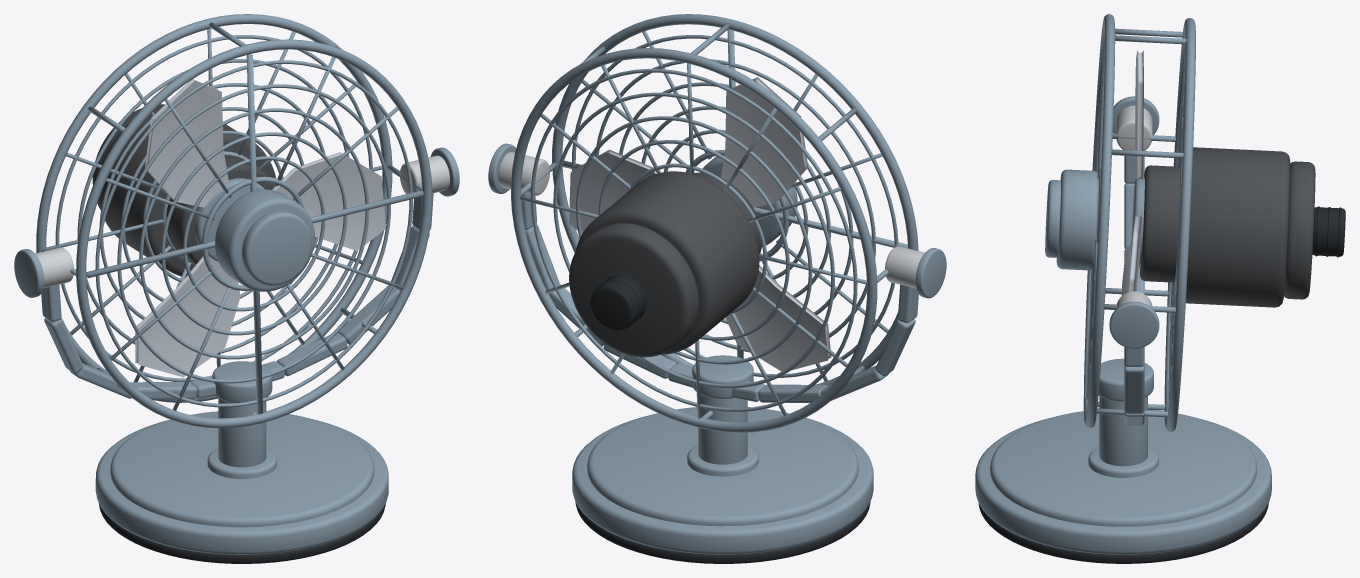
File: foundry_treasure_chest.glb
The picture shows the model from 3 angles, left to right: view 1: azimuth 30°, elevation 25°; view 2: azimuth 150°, elevation 25°; view 3: azimuth 270°, elevation 25°; orthographic projection. The views are drawn at different scales.
Parts seen in each view (by area): view 1: front_cage, fan_base_upper, rear_cage, fan_base_lower, support_yoke, blade_03, blade_02, blade_01, motor_housing, central_hub_cap, central_hub, front_cage_cross_support (+11 smaller); view 2: rear_cage, fan_base_upper, front_cage, motor_housing, motor_rear_cap, fan_base_lower, support_yoke, blade_03, blade_02, blade_01, base_rubber_pad, support_column (+11 smaller); view 3: fan_base_upper, motor_housing, fan_base_lower, rear_cage, front_cage, motor_front_neck, central_hub, motor_rear_cap, base_rubber_pad, support_yoke, support_column, cage_depth_connectors (+11 smaller).
Boxes of the visible parts, x1,y1,x2,y2 form: front_cage: [76, 39, 432, 428]; fan_base_upper: [110, 411, 374, 527]; rear_cage: [36, 14, 392, 402]; fan_base_lower: [95, 420, 388, 554]; support_yoke: [41, 193, 433, 399]; blade_03: [145, 79, 229, 207]; blade_02: [135, 256, 240, 377]; blade_01: [272, 152, 385, 250]; motor_housing: [98, 105, 275, 277]; central_hub_cap: [241, 211, 311, 285]; central_hub: [215, 189, 314, 291]; front_cage_cross_support: [86, 54, 423, 413]; rear_cage: [511, 48, 877, 432]; fan_base_upper: [587, 407, 858, 526]; front_cage: [552, 14, 918, 385]; motor_housing: [575, 171, 759, 354]; motor_rear_cap: [569, 223, 698, 357]; fan_base_lower: [572, 415, 873, 554]; support_yoke: [521, 193, 918, 403]; blade_03: [721, 77, 808, 207]; blade_02: [725, 265, 831, 371]; blade_01: [569, 149, 656, 233]; base_rubber_pad: [575, 501, 870, 563]; support_column: [698, 395, 747, 464]; fan_base_upper: [990, 409, 1256, 526]; motor_housing: [1186, 147, 1290, 307]; fan_base_lower: [975, 418, 1271, 554]; rear_cage: [1164, 18, 1195, 431]; front_cage: [1083, 14, 1115, 427]; motor_front_neck: [1140, 165, 1180, 282]; central_hub: [1056, 169, 1098, 270]; motor_rear_cap: [1284, 161, 1315, 299]; base_rubber_pad: [978, 503, 1268, 563]; support_yoke: [1124, 155, 1144, 425]; support_column: [1099, 396, 1147, 466]; cage_depth_connectors: [1096, 28, 1186, 417].
Size of the model in its own units: 1.91 by 2.01 by 1.43.
